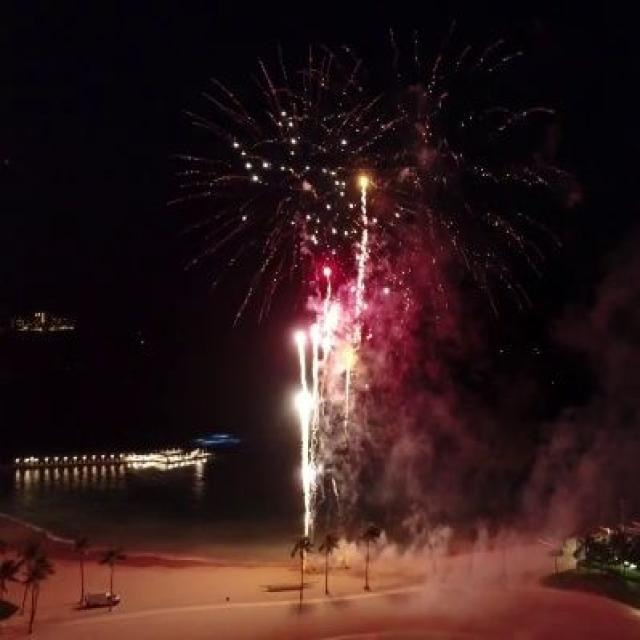Smoke: (421, 422, 628, 559)
